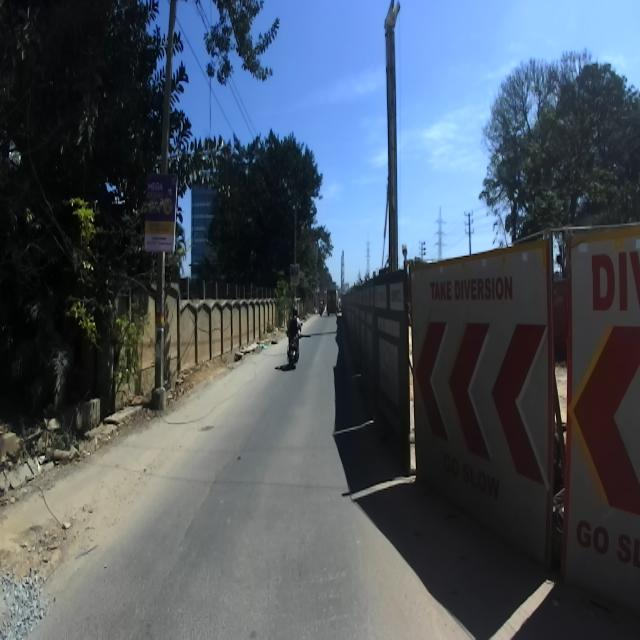barrier ahead at: (405, 256, 567, 548)
electric pole ahead at: (144, 0, 188, 421)
